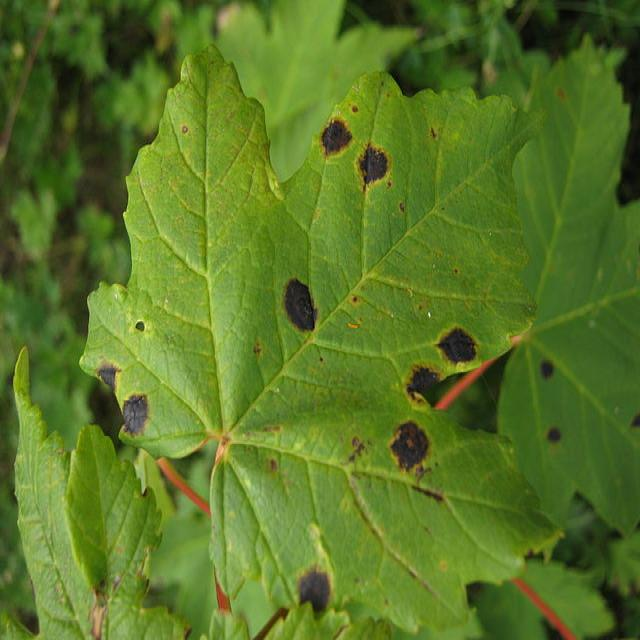leaf_spot: (81, 48, 554, 628)
